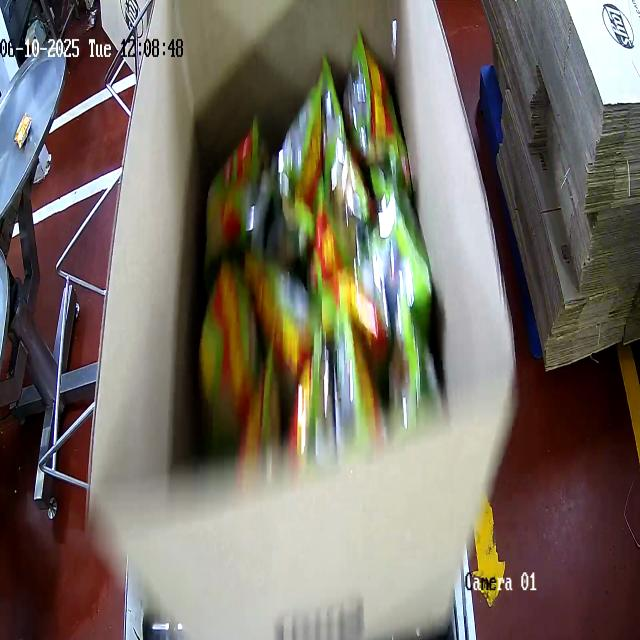YOGURT_HERB: (184, 71, 438, 434)
